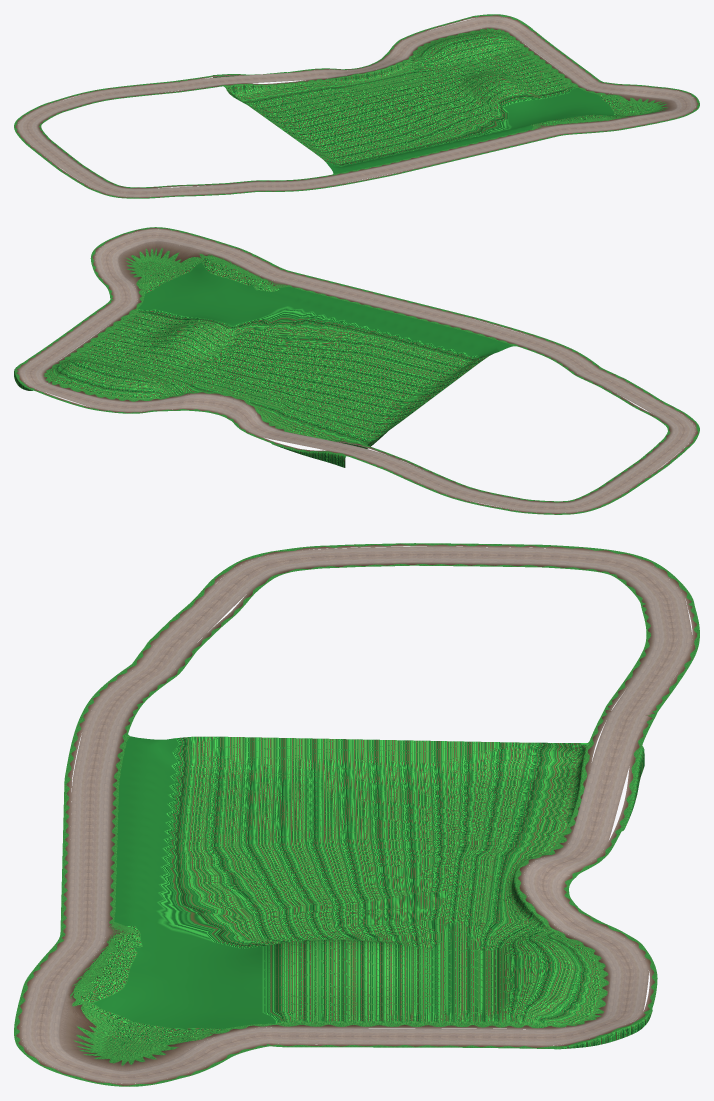
The model's file is Track_Terrain.FBX.
The picture shows the model from 3 angles, top to bottom: view 1: azimuth 30°, elevation 25°; view 2: azimuth 150°, elevation 25°; view 3: azimuth 270°, elevation 25°; orthographic projection. The views are drawn at different scales.
Visible parts, largest first — view 1: Plane003, Object001; view 2: Plane003, Object001; view 3: Plane003, Object001.
Boxes of the visible parts, box(x1,y1,x2,y2) form: Plane003: box(14, 14, 699, 198); Object001: box(18, 16, 695, 196); Plane003: box(14, 227, 699, 514); Object001: box(19, 229, 695, 512); Plane003: box(14, 543, 699, 1086); Object001: box(21, 546, 692, 1083).
Bounding box in the file's own units: 777 × 16.03 × 422.
